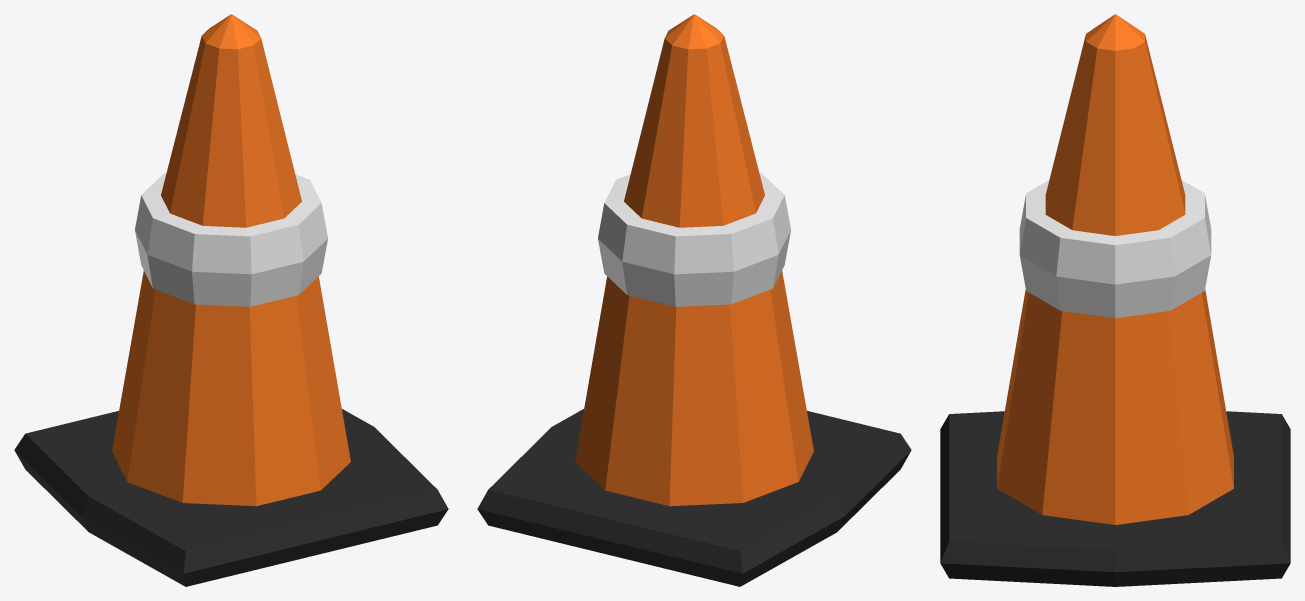
The picture shows the model from 3 angles, left to right: view 1: azimuth 30°, elevation 25°; view 2: azimuth 150°, elevation 25°; view 3: azimuth 270°, elevation 25°; orthographic projection. The views are drawn at different scales.
Visible parts, largest first — view 1: p; view 2: p; view 3: p.
Boxes of the visible parts, <box> form: p: <box>14,14,448,586</box>; p: <box>477,14,911,586</box>; p: <box>940,14,1290,586</box>.
Bounding box in the file's own units: 0.5 × 0.77 × 0.4872.
